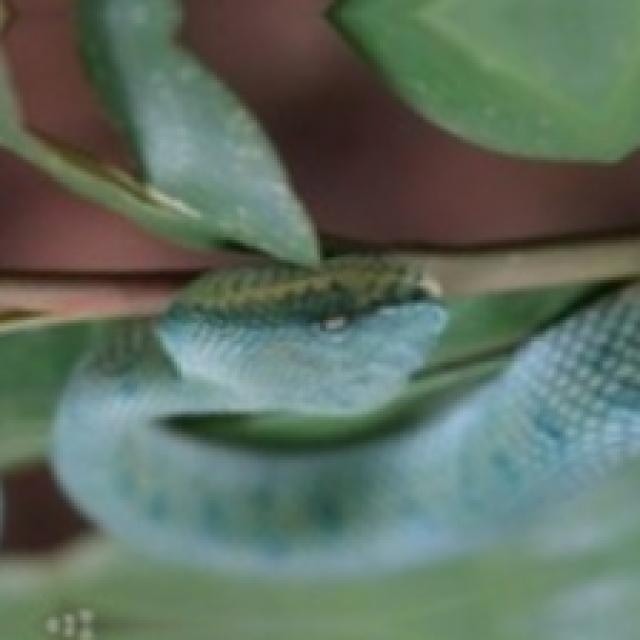north ph temple pitviper: (51, 257, 637, 569)
